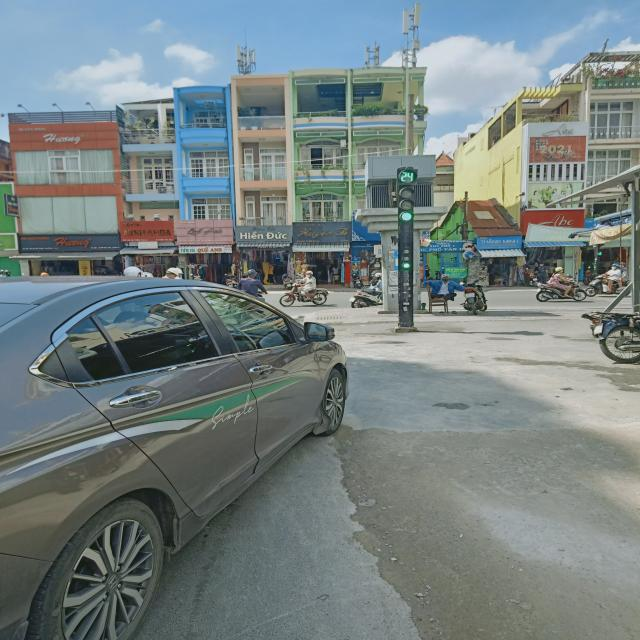Green: (394, 186, 424, 226), (395, 246, 417, 268)
